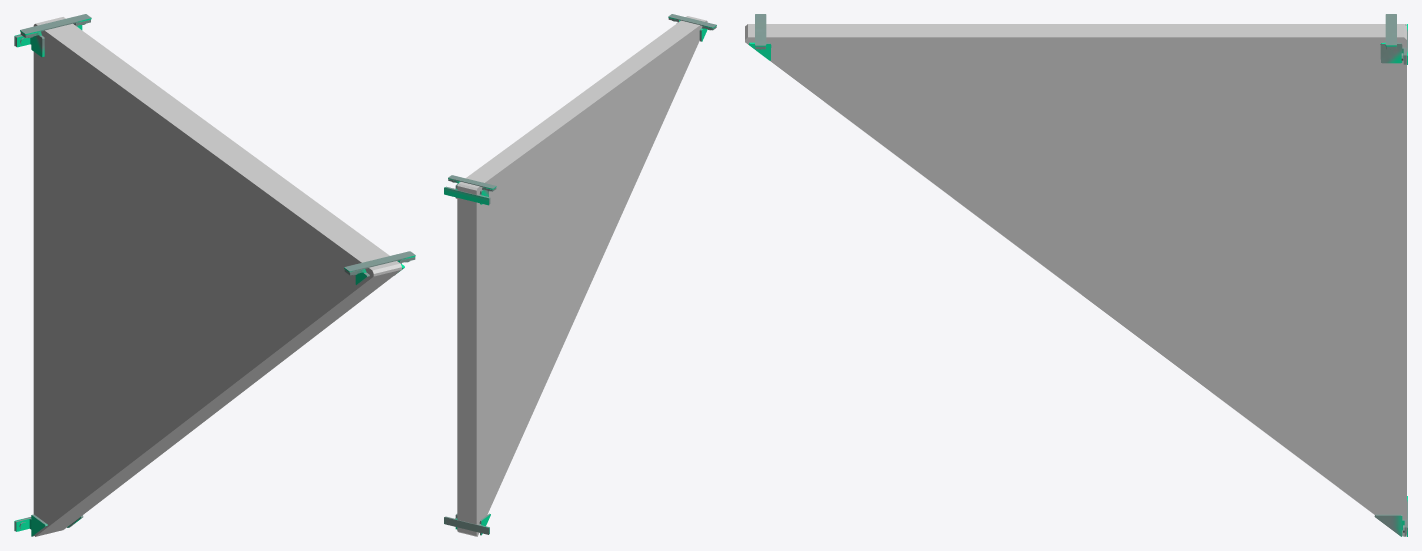
Rendered from SM_WallTryangleReverse_Glass_a288bf.glb.
3 renders of one model, left to right at view 1: azimuth 30°, elevation 25°; view 2: azimuth 150°, elevation 25°; view 3: azimuth 270°, elevation 25°, orthographic. The views are drawn at different scales.
Size of the model in its own units: 0.45 by 3.33 by 4.
Materials: 2 (1 with a texture image).
